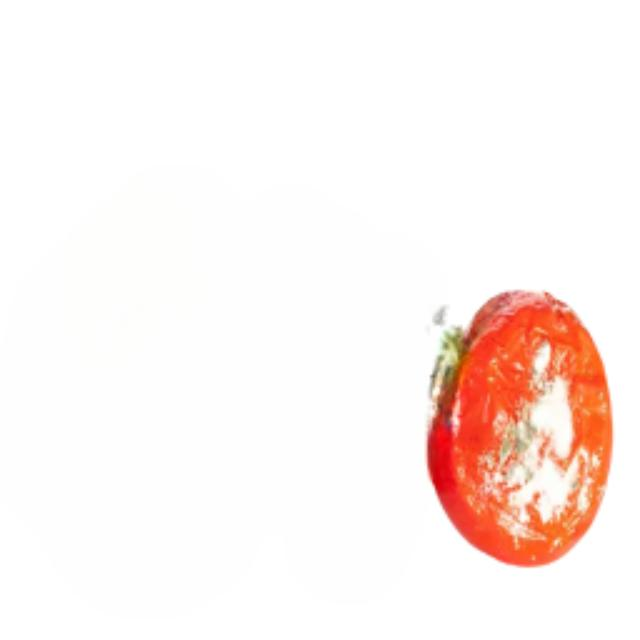defect: (421, 280, 619, 570)
